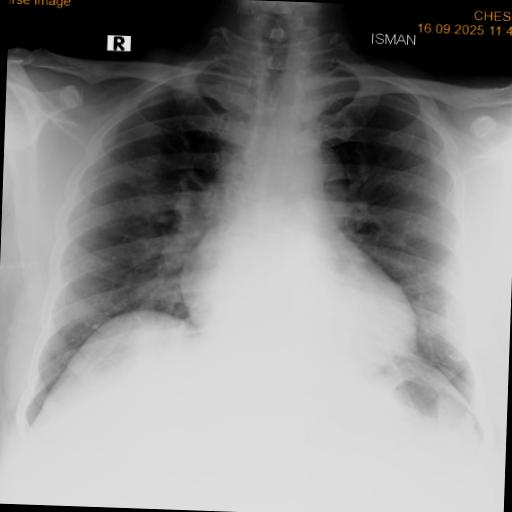kardiomegali: (12, 37, 512, 450)
